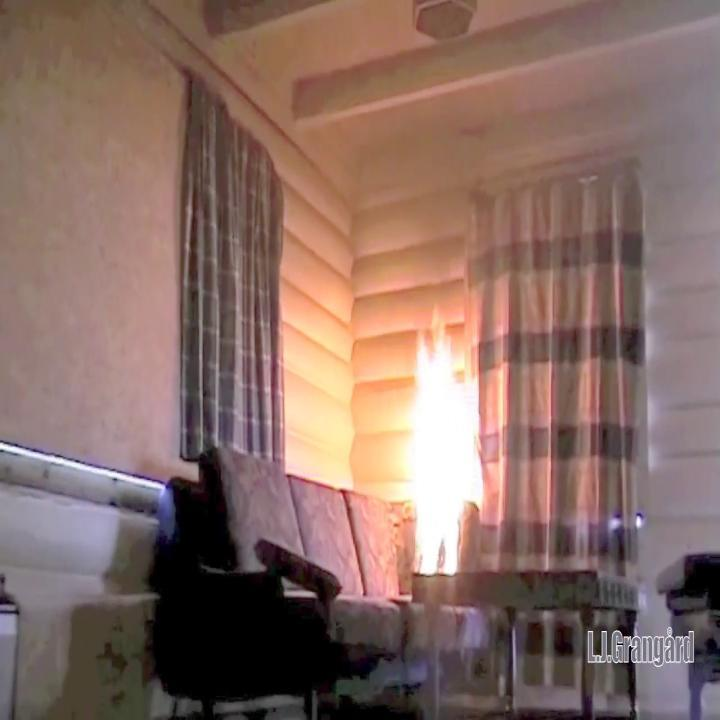fire: (402, 313, 492, 591)
